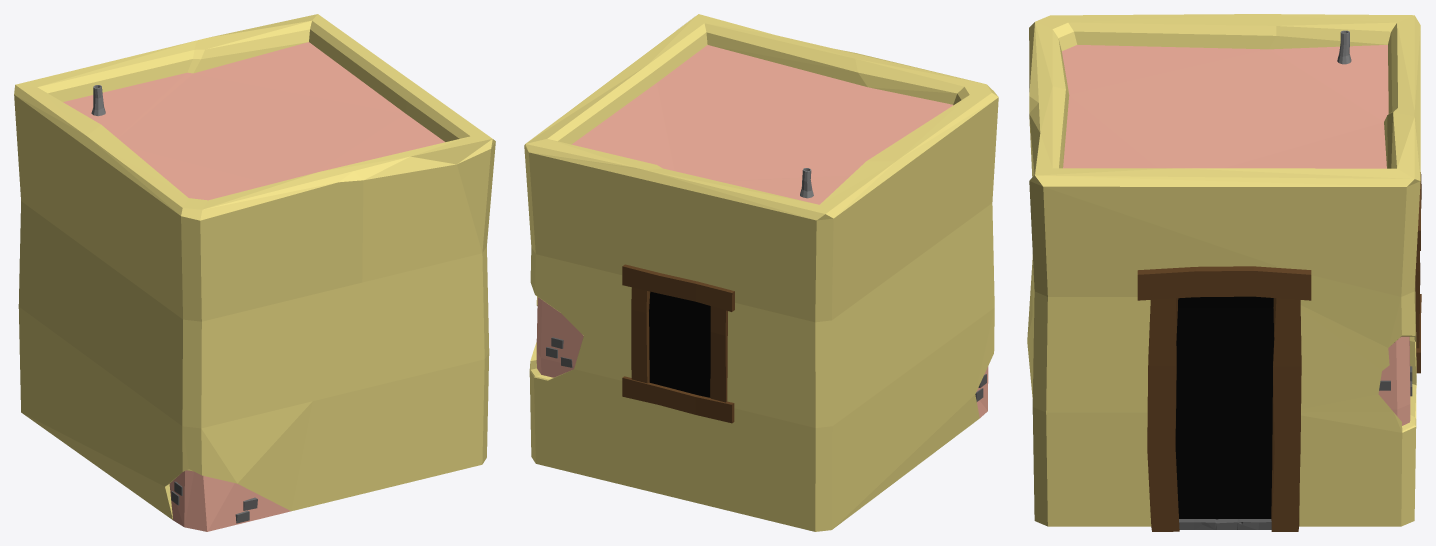
Rendered from MudHutOpen.fbx.
The picture shows the model from 3 angles, left to right: view 1: azimuth 30°, elevation 25°; view 2: azimuth 150°, elevation 25°; view 3: azimuth 270°, elevation 25°; orthographic projection. The views are drawn at different scales.
Parts seen in each view (by area): view 1: AdobeHut; view 2: AdobeHut; view 3: AdobeHut.
Part boxes in pixels (box(x1,y1,x2,y2)): AdobeHut: box(14, 14, 495, 531); AdobeHut: box(524, 14, 998, 531); AdobeHut: box(1027, 14, 1421, 531).
Bounding box in the file's own units: 630 × 629 × 623.
